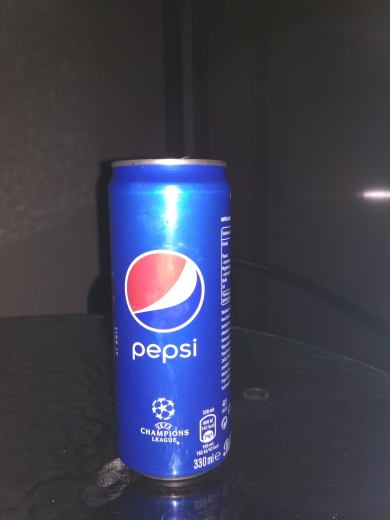pepsi: (103, 154, 241, 484)
